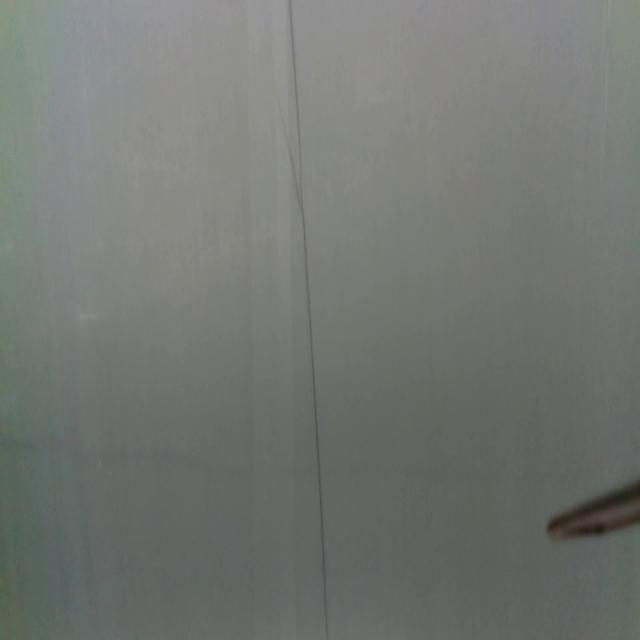color bleeding: (0, 429, 601, 494)
crease: (246, 0, 293, 639), (289, 1, 330, 640)
